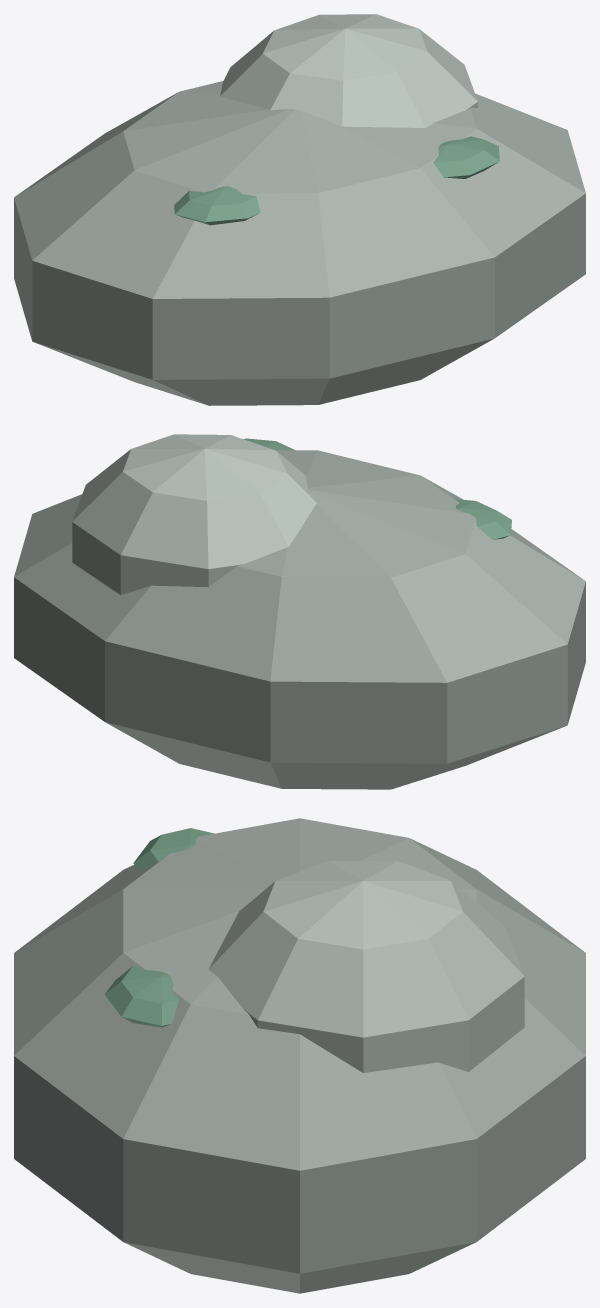
The model's file is roca_pantano.glb.
3 views of the same model, one above another, from view 1: azimuth 30°, elevation 25°; view 2: azimuth 150°, elevation 25°; view 3: azimuth 270°, elevation 25° (orthographic). The views are drawn at different scales.
Parts seen in each view (by area): view 1: roca_pantano; view 2: roca_pantano; view 3: roca_pantano.
Part boxes in pixels (x1=…): roca_pantano: x1=14, y1=14, x2=585, y2=405; roca_pantano: x1=14, y1=434, x2=585, y2=789; roca_pantano: x1=14, y1=818, x2=585, y2=1293.
Bounding box in the file's own units: 1.37 × 0.74 × 0.995.
